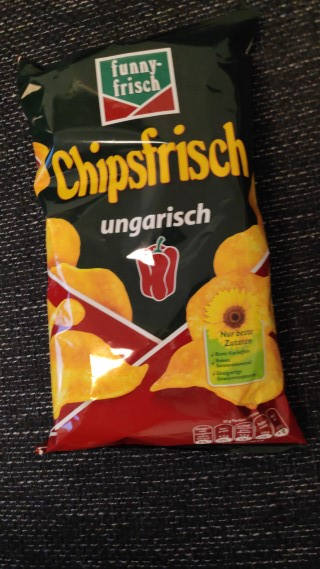chipsfrisch: (13, 6, 316, 459)
